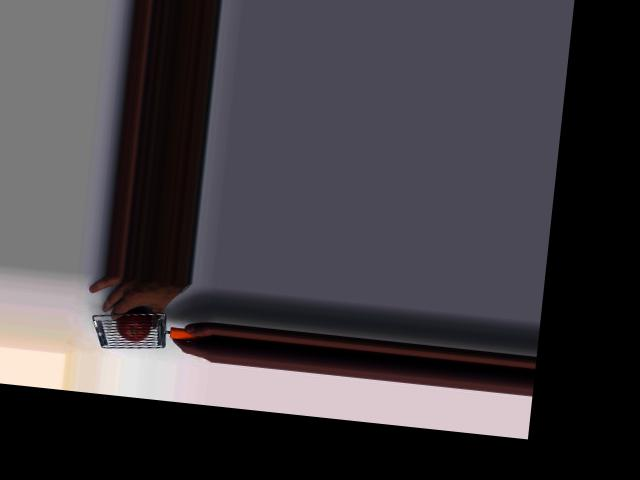tomato: (116, 307, 153, 342)
